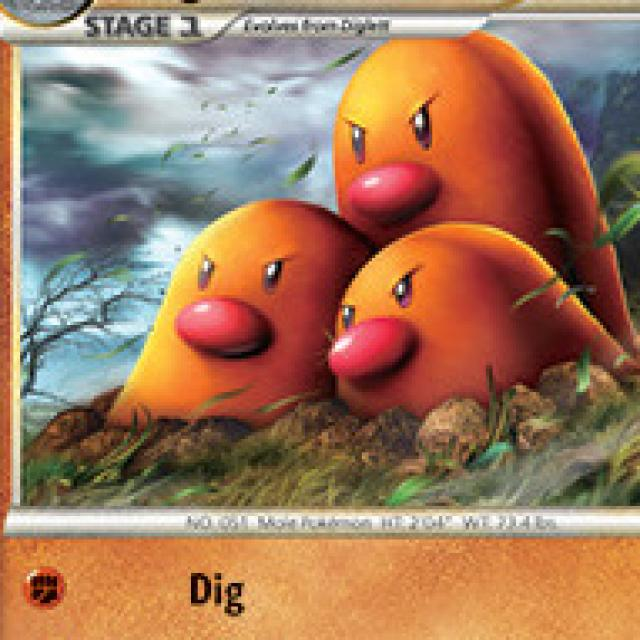Dugtrio: (115, 38, 630, 429)
